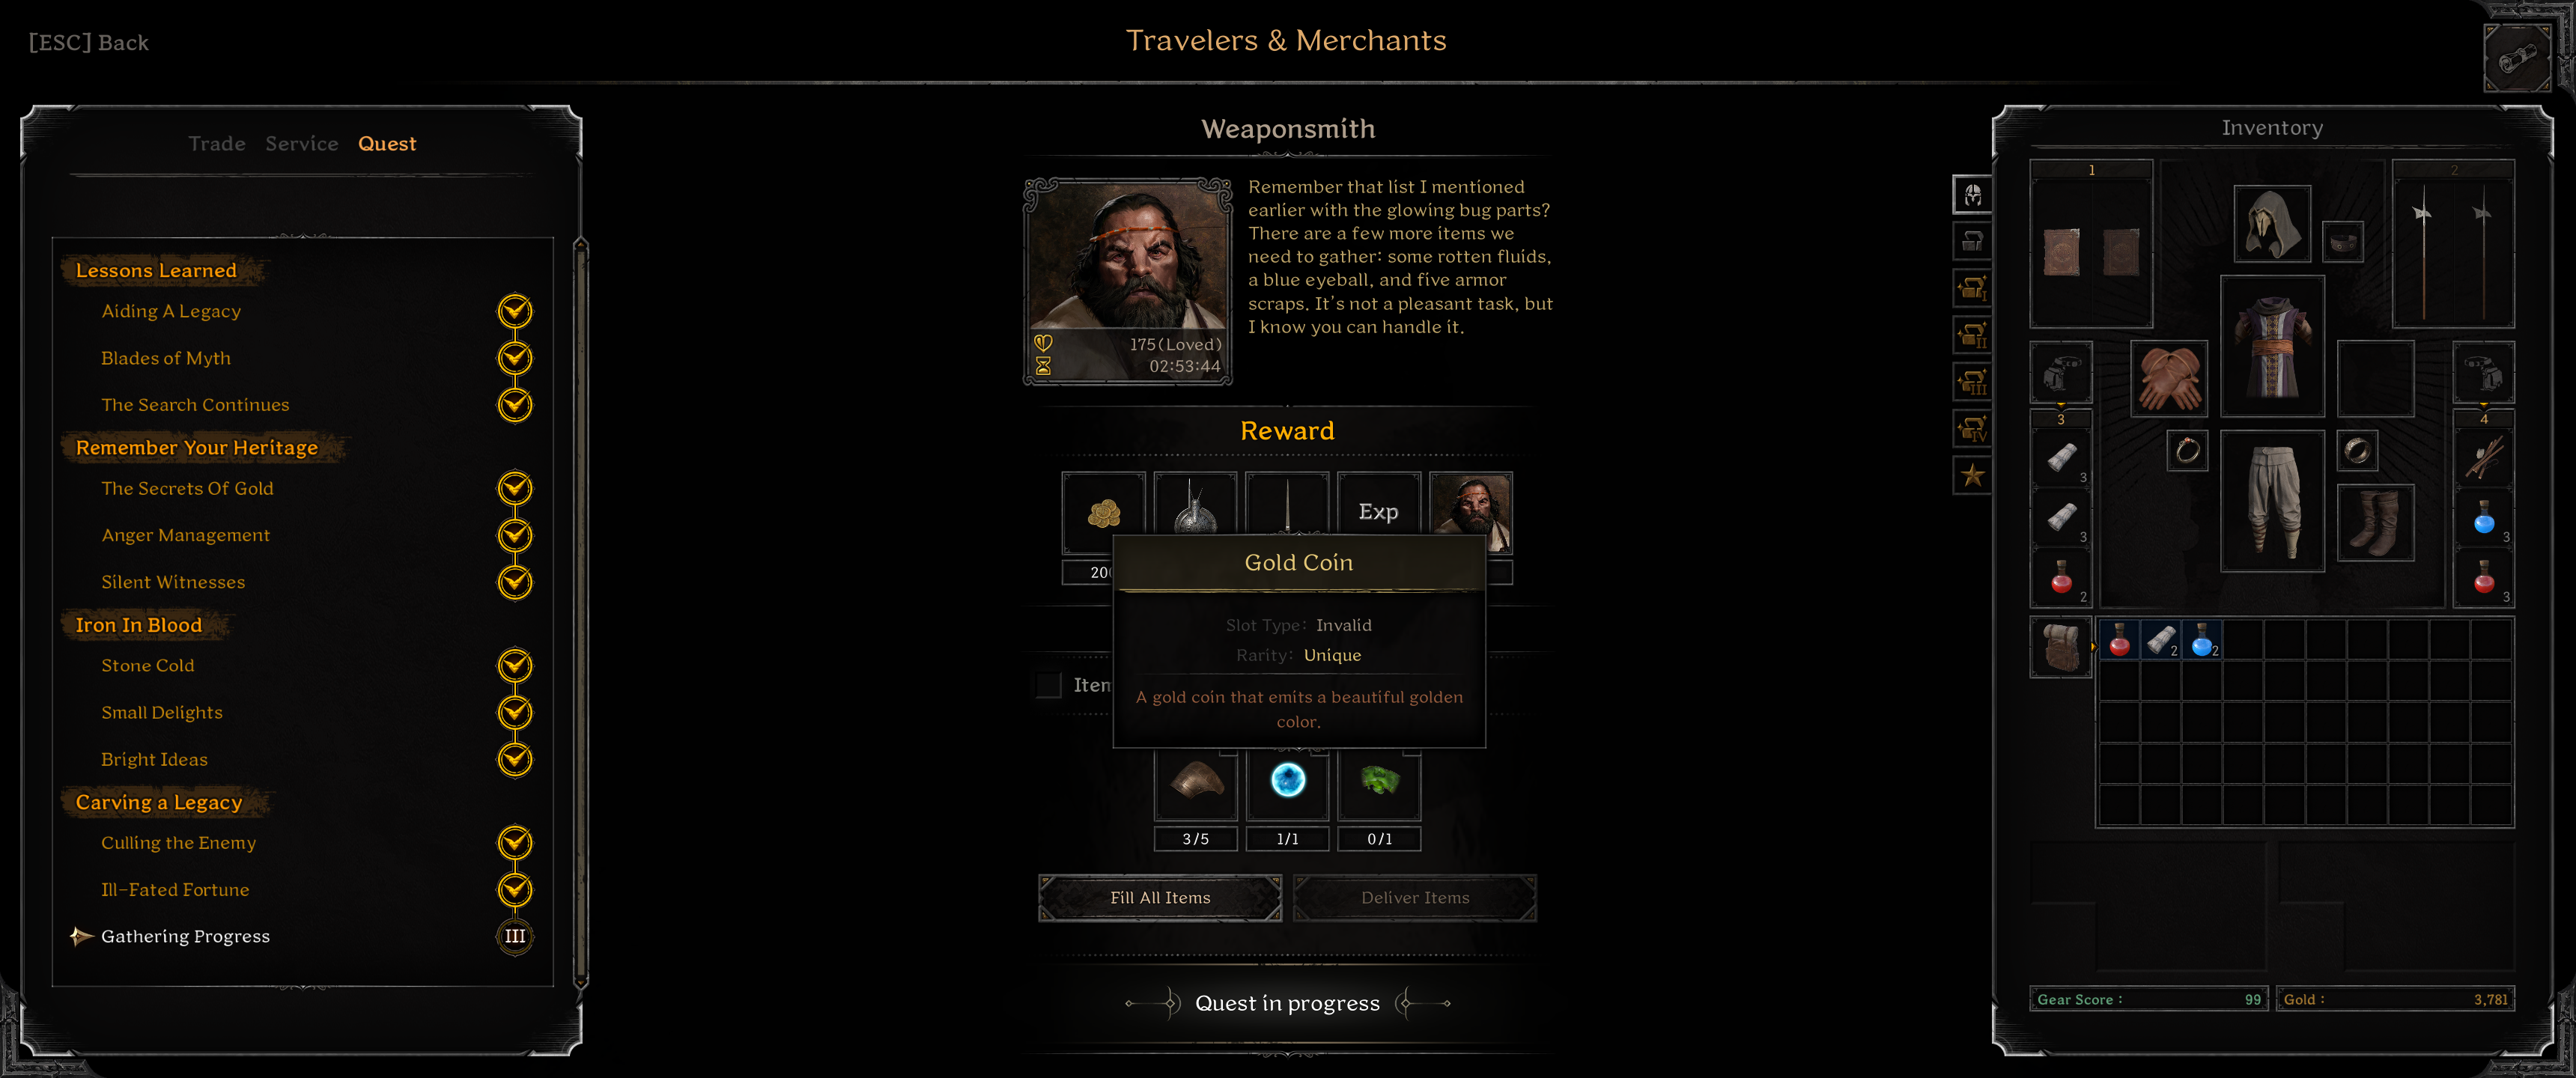Tooltip: (1112, 532, 1487, 749)
